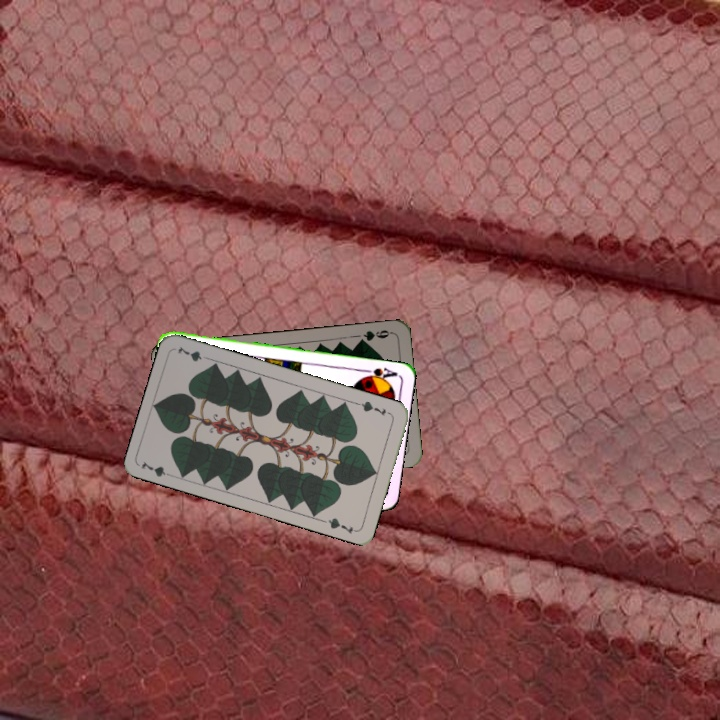G7: (138, 457, 177, 480), (354, 397, 388, 419)
G9: (354, 326, 394, 346)
SA: (358, 363, 399, 384)
